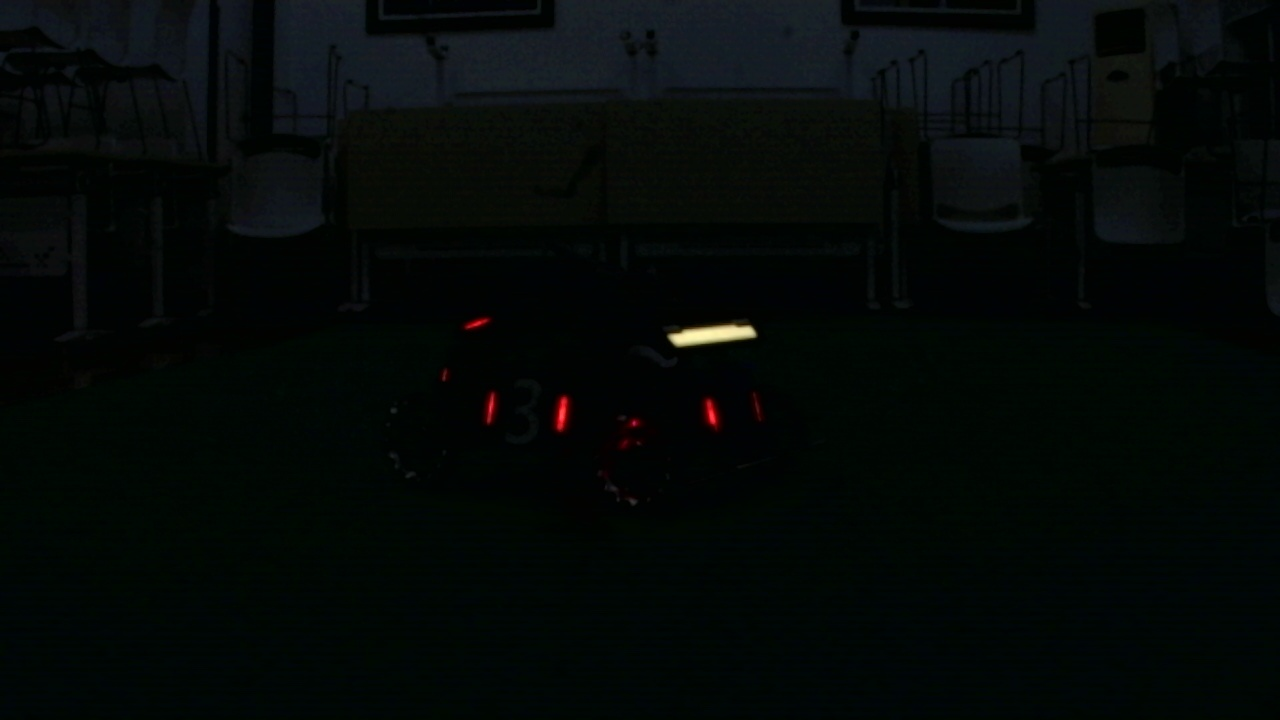lamp: (698, 395, 721, 429), (551, 392, 569, 430), (482, 391, 497, 428)
pair1: (484, 391, 570, 429)
